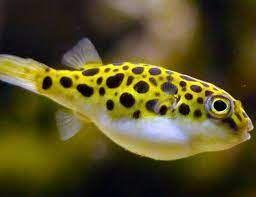Green Spotted Puffer: (0, 39, 253, 161)
